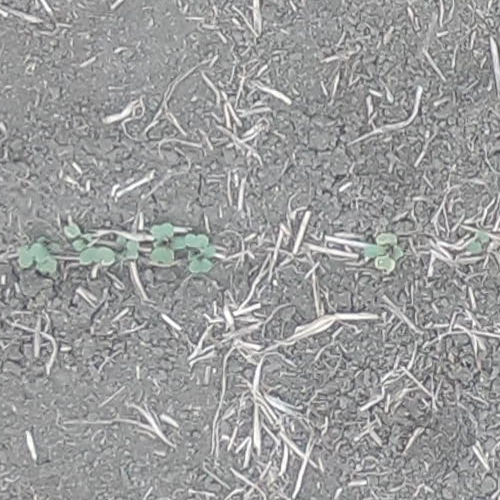plant: (362, 231, 404, 271), (63, 222, 100, 266), (149, 222, 183, 268), (184, 232, 217, 274), (16, 243, 58, 275), (100, 239, 140, 268), (466, 228, 492, 254)
